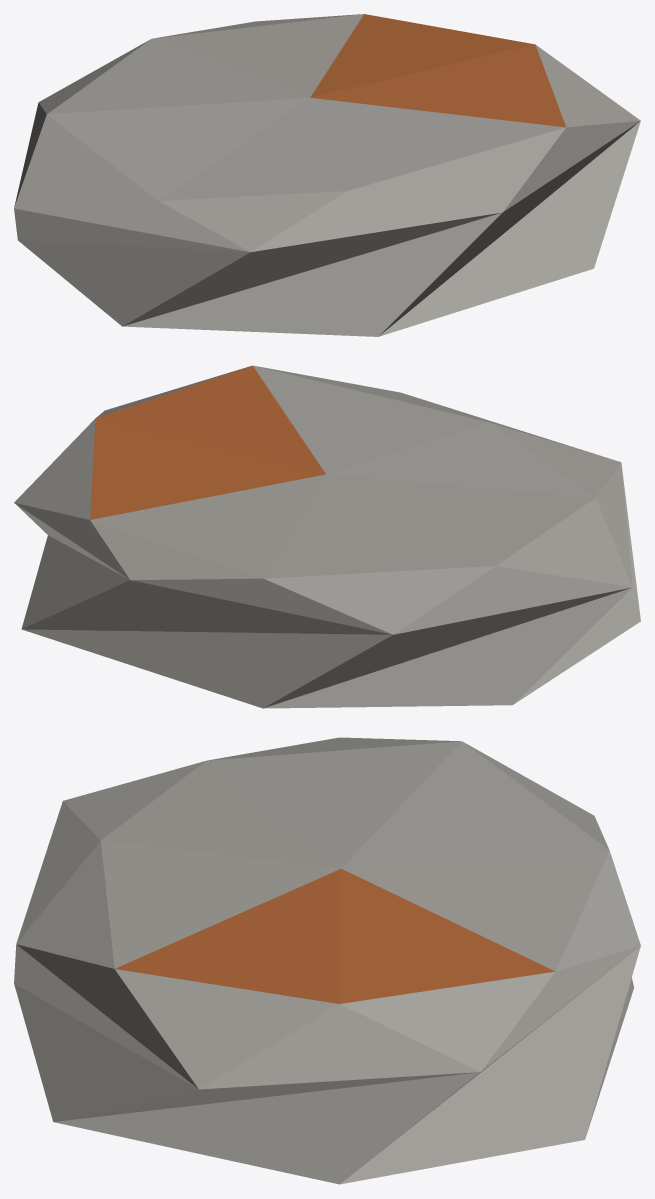
The model's file is item_rm_steel_b.obj.
3 views of the same model, one above another, from view 1: azimuth 30°, elevation 25°; view 2: azimuth 150°, elevation 25°; view 3: azimuth 270°, elevation 25° (orthographic). The views are drawn at different scales.
Size of the model in its own units: 0.869 by 0.183 by 0.6757.
